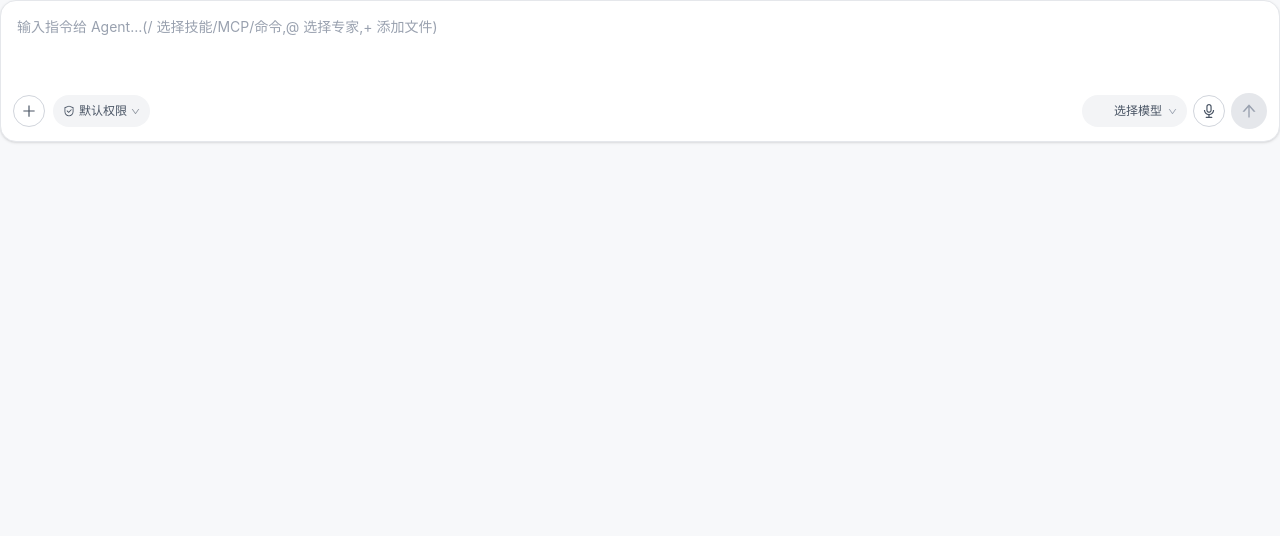
Test: AgentWorkspaceInput › 输入 / 唤起统一命令菜单,按类型分组(技能/命令/文件)与键盘提示,无剧本组
Type "/" into the text box. click: (640, 47)
box: [17, 17, 1263, 77]
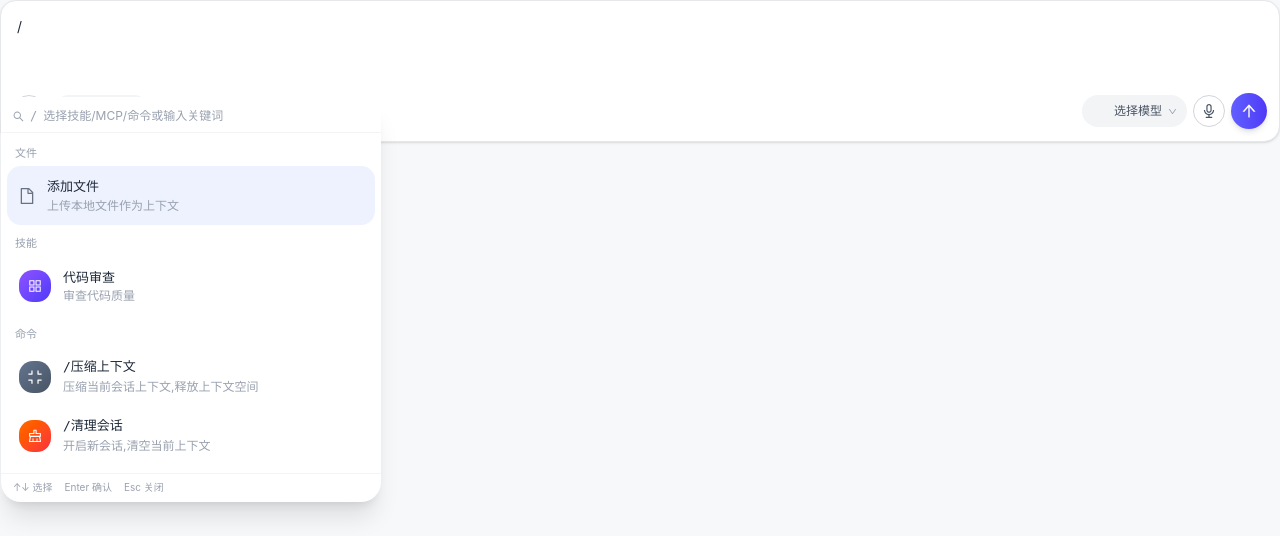
Now the text "技能" is shown, box [15, 236, 37, 250]
Now the text "↑↓ 选择" is shown, box [13, 480, 52, 496]
Now the text "Enter 确认" is shown, box [64, 480, 112, 496]
